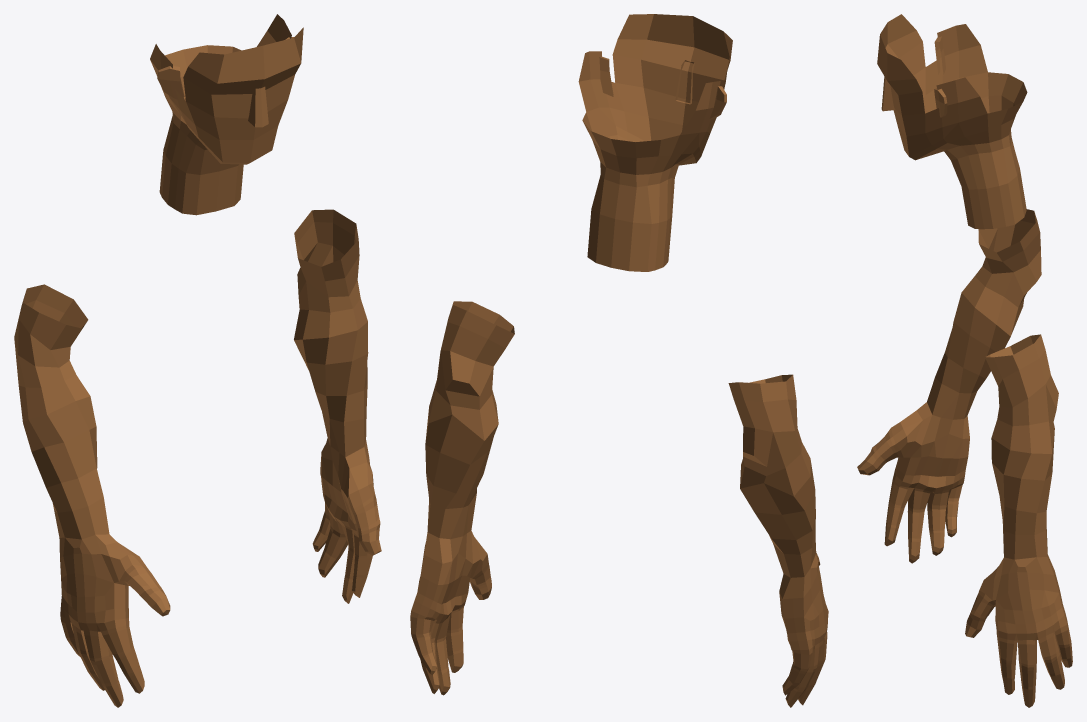
The model's file is Skin_001.obj.
3 renders of one model, left to right at view 1: azimuth 30°, elevation 25°; view 2: azimuth 150°, elevation 25°; view 3: azimuth 270°, elevation 25°, orthographic. The views are drawn at different scales.
Size of the model in its own units: 0.5476 by 0.9491 by 0.3096.
